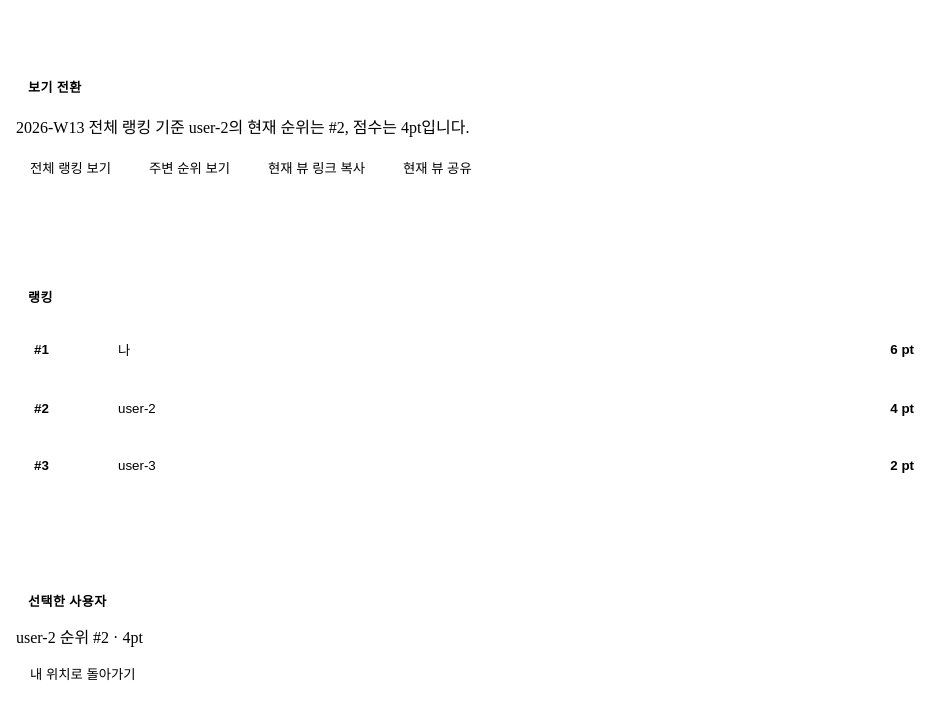
Test case: leaderboard ui › returns focus to the current user
(page scrolled)
Click the button "내 위치로 돌아가기" at (83, 673), box [16,656,150,691]
(page scrolled)
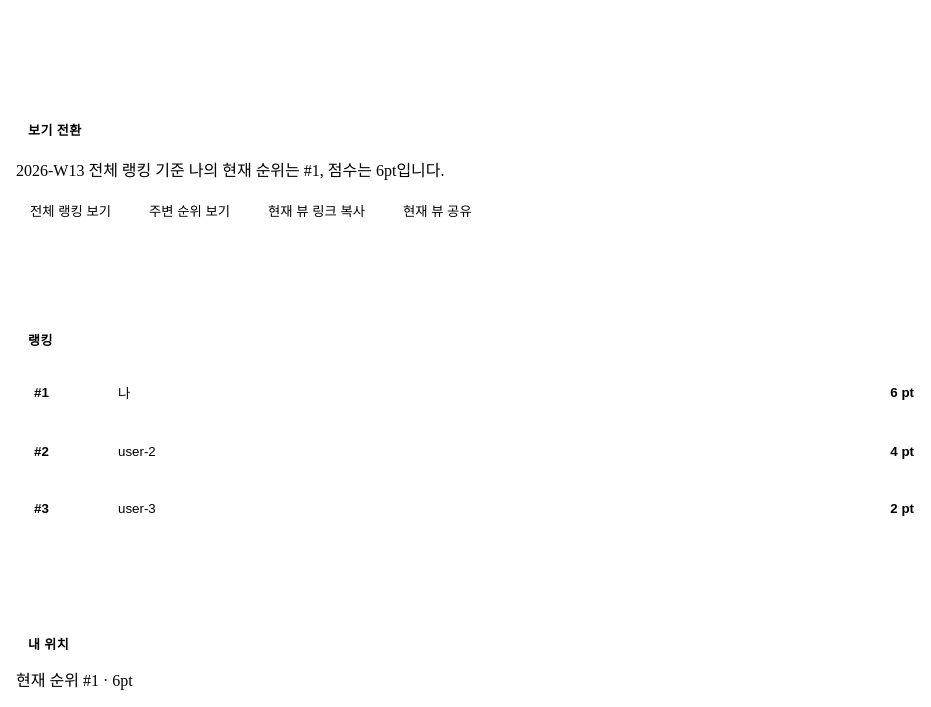
Expected: the text "내 위치" is shown, [28,637,69,652]
Expected: the text "현재 순위 #1 · 6pt" is shown, [16,672,133,689]
